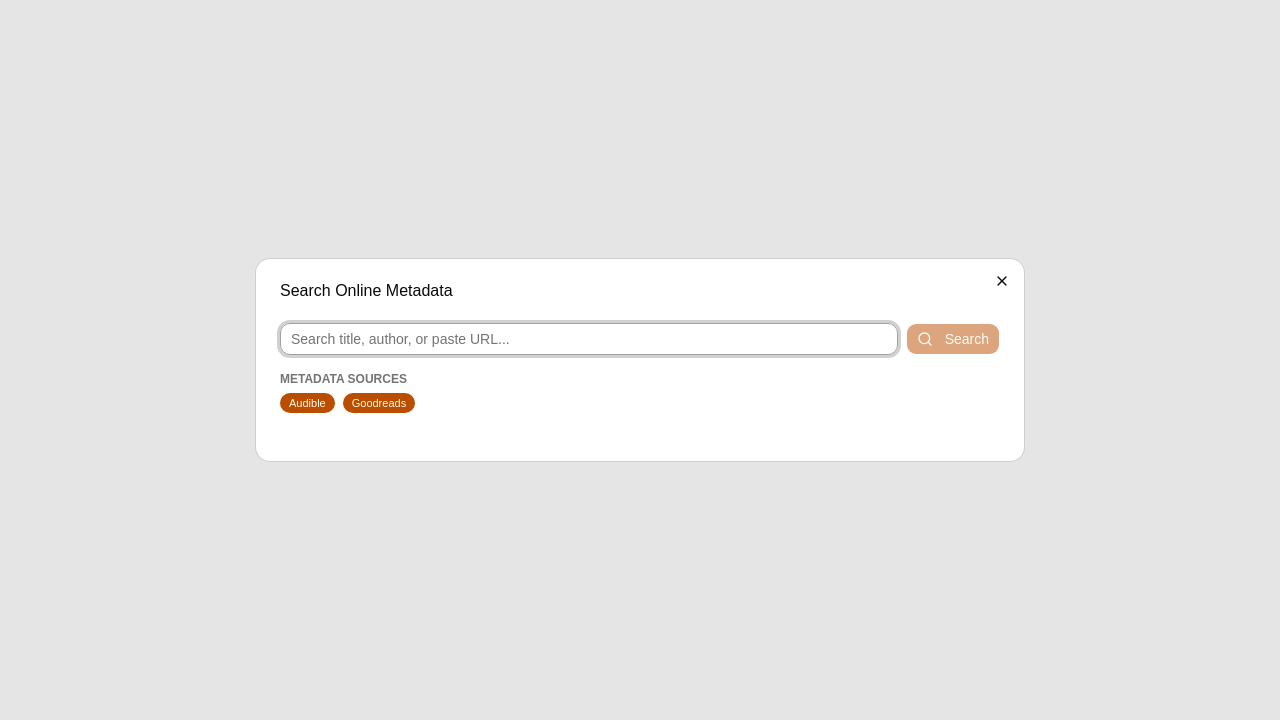
Scenario: BookSearchDialog › orders the result tabs like the response's sources, not like the picker or the ticks
Type "mole" into the field with placeholder "Search title, author, or paste URL...".
click(589, 339); type("mole")  # box [280,323,898,355]
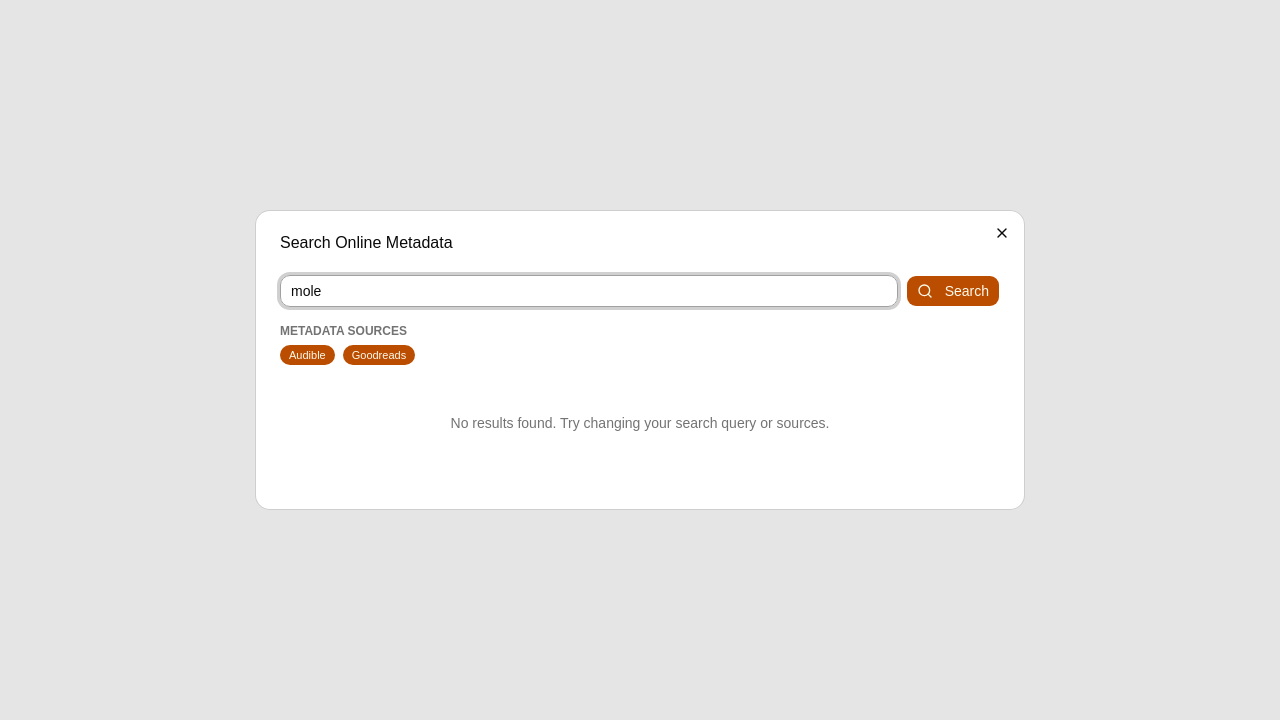
Click the button "Search".
click(953, 291)  # box [906,275,1000,307]
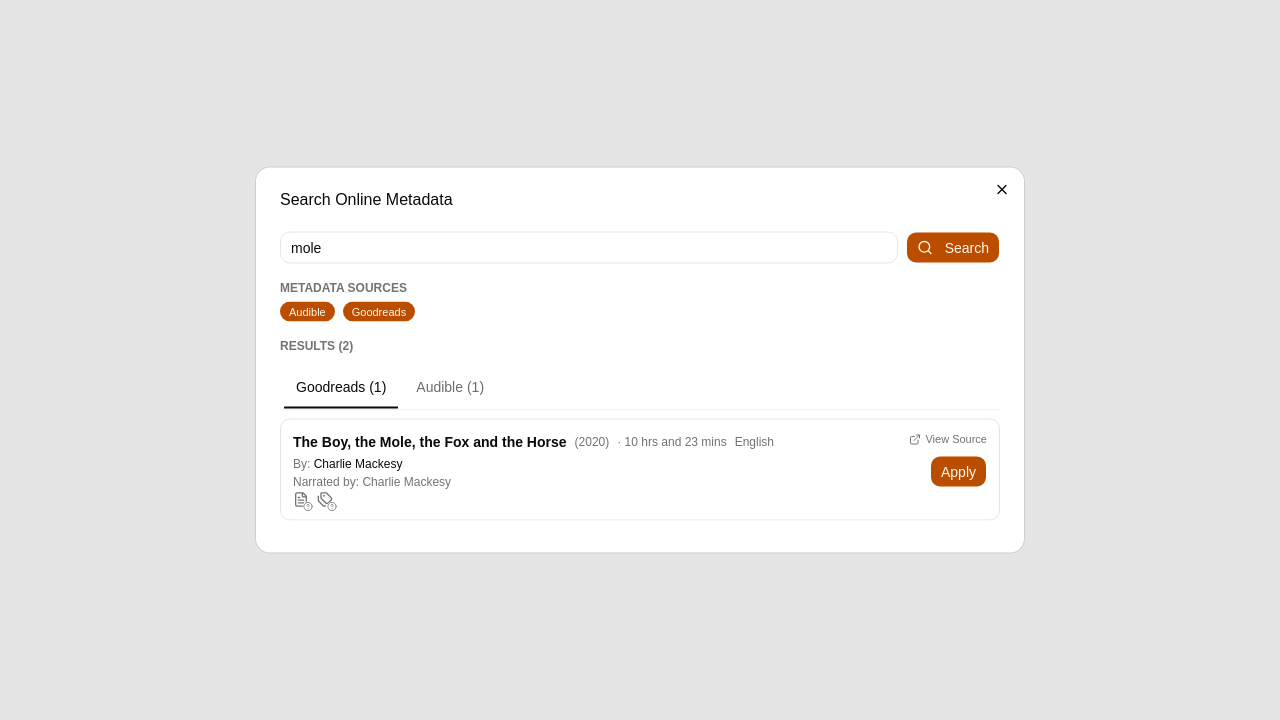
Expected: the tab "Goodreads (1)" is shown, [283,368,399,404]
Expected: the tabs read "Goodreads (1)", "Audible (1)", in this order, [283,368,399,404]; [403,368,497,404]
